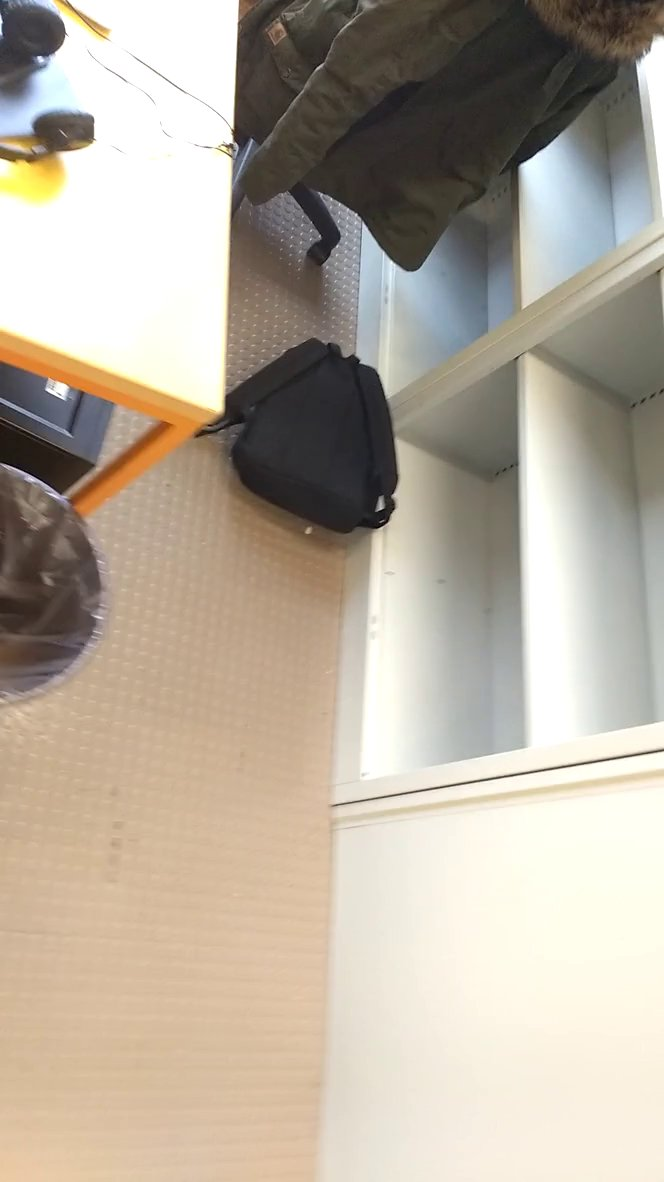bag: (221, 330, 405, 558)
